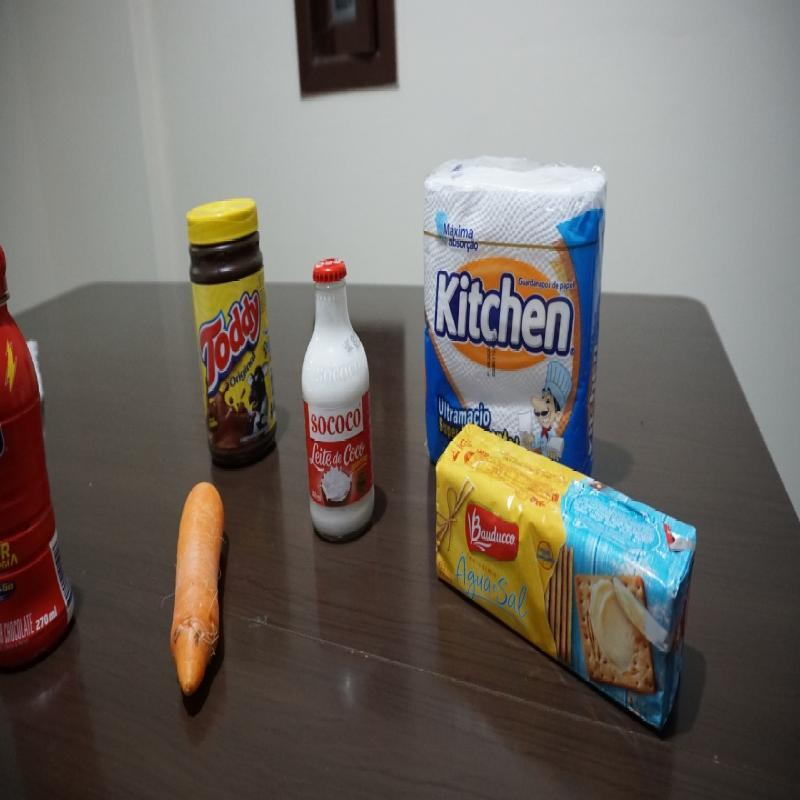Carrot: (170, 481, 226, 704)
Chocolate Milk: (0, 237, 78, 676)
Chocolate Powder: (183, 199, 282, 470)
Coconut Milk: (299, 256, 382, 544)
Cracker: (434, 424, 697, 732)
Napkin: (421, 157, 611, 425)
